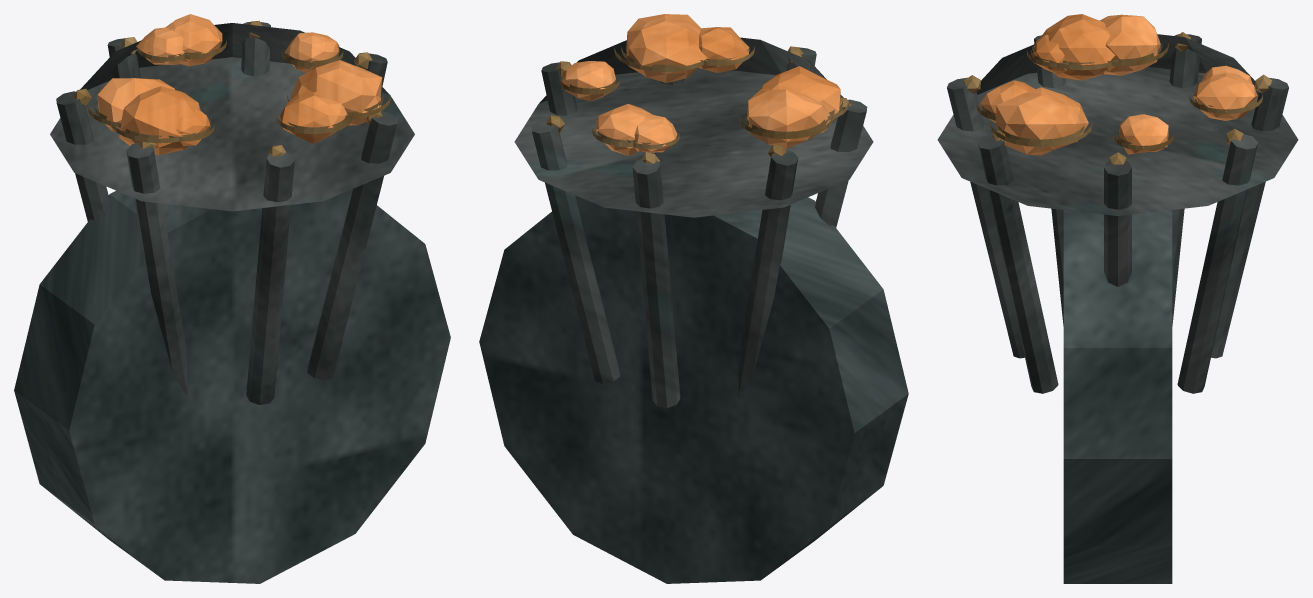
File: 0526_brazier_01.glb
The picture shows the model from 3 angles, left to right: view 1: azimuth 30°, elevation 25°; view 2: azimuth 150°, elevation 25°; view 3: azimuth 270°, elevation 25°; orthographic projection.
Parts seen in each view (by area): view 1: stone_dark, iron, amber, brass; view 2: stone_dark, iron, amber, brass; view 3: iron, stone_dark, amber, brass.
Part boxes in pixels (left/top/right/bottom): stone_dark: left=14, top=189, right=450, bottom=583; iron: left=50, top=22, right=414, bottom=404; amber: left=97, top=14, right=382, bottom=154; brass: left=72, top=20, right=390, bottom=156; stone_dark: left=479, top=195, right=908, bottom=583; iron: left=514, top=37, right=873, bottom=407; amber: left=562, top=14, right=840, bottom=155; brass: left=546, top=46, right=851, bottom=163; iron: left=937, top=34, right=1298, bottom=393; stone_dark: left=1063, top=210, right=1172, bottom=583; amber: left=980, top=14, right=1257, bottom=155; brass: left=964, top=32, right=1272, bottom=164.
Size of the model in its own units: 1.4 by 1.78 by 1.16.
Materials: 4 (4 with a texture image).
